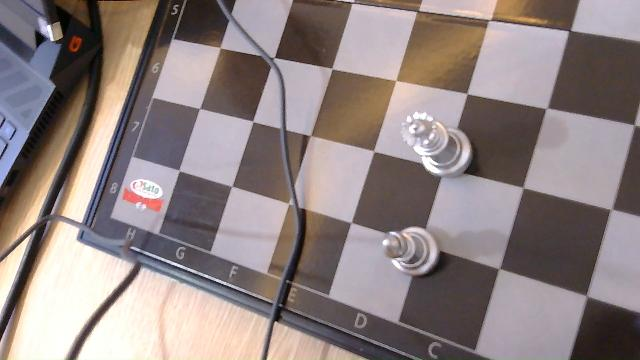white_bishop: (381, 227, 439, 278)
white_queen: (399, 110, 475, 179)
